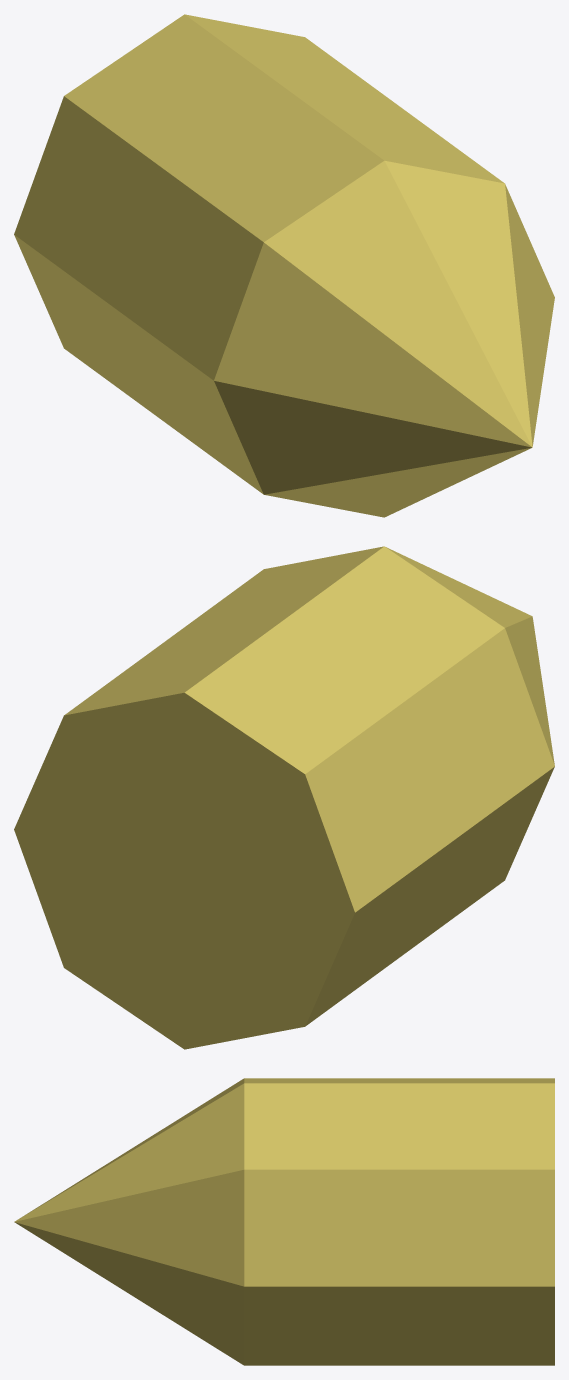
Rendered from Bullet.fbx.
The picture shows the model from 3 angles, top to bottom: view 1: azimuth 30°, elevation 25°; view 2: azimuth 150°, elevation 25°; view 3: azimuth 270°, elevation 25°; orthographic projection. The views are drawn at different scales.
Visible parts, largest first — view 1: pCone1; view 2: pCone1; view 3: pCone1.
Boxes of the visible parts, <box> form: pCone1: <box>14,14,554,517</box>; pCone1: <box>14,546,554,1049</box>; pCone1: <box>14,1078,554,1365</box>.
Bounding box in the file's own units: 0.1 × 0.1 × 0.1768.
